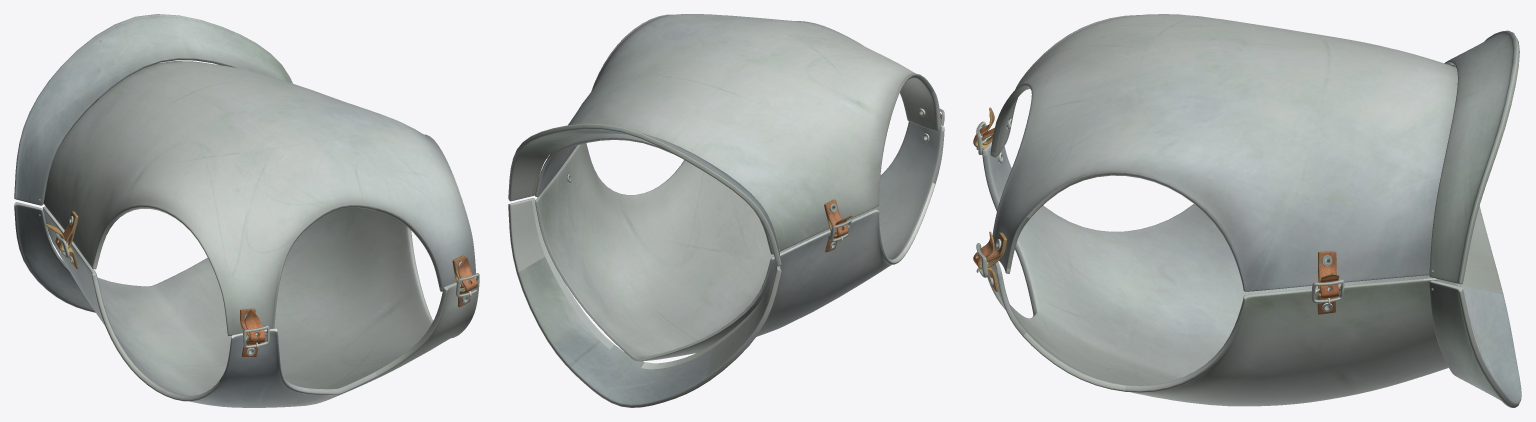
File: 13590_Breastplate_Armor_VerB_v1_L3.obj
3 views of the same model, side by side, from view 1: azimuth 30°, elevation 25°; view 2: azimuth 150°, elevation 25°; view 3: azimuth 270°, elevation 25° (orthographic). The views are drawn at different scales.
Parts seen in each view (by area): view 1: Breastplate_Armor_body, Breastplate_Armor_strap; view 2: Breastplate_Armor_body, Breastplate_Armor_strap; view 3: Breastplate_Armor_body, Breastplate_Armor_strap.
Part boxes in pixels (<box>): Breastplate_Armor_body: <box>14,14,479,407</box>; Breastplate_Armor_strap: <box>45,211,477,356</box>; Breastplate_Armor_body: <box>508,14,944,407</box>; Breastplate_Armor_strap: <box>824,113,941,252</box>; Breastplate_Armor_body: <box>976,14,1521,407</box>; Breastplate_Armor_strap: <box>973,107,1339,314</box>.
Size of the model in its own units: 19.44 by 16.43 by 23.26.
Materials: 2 (2 with a texture image).
